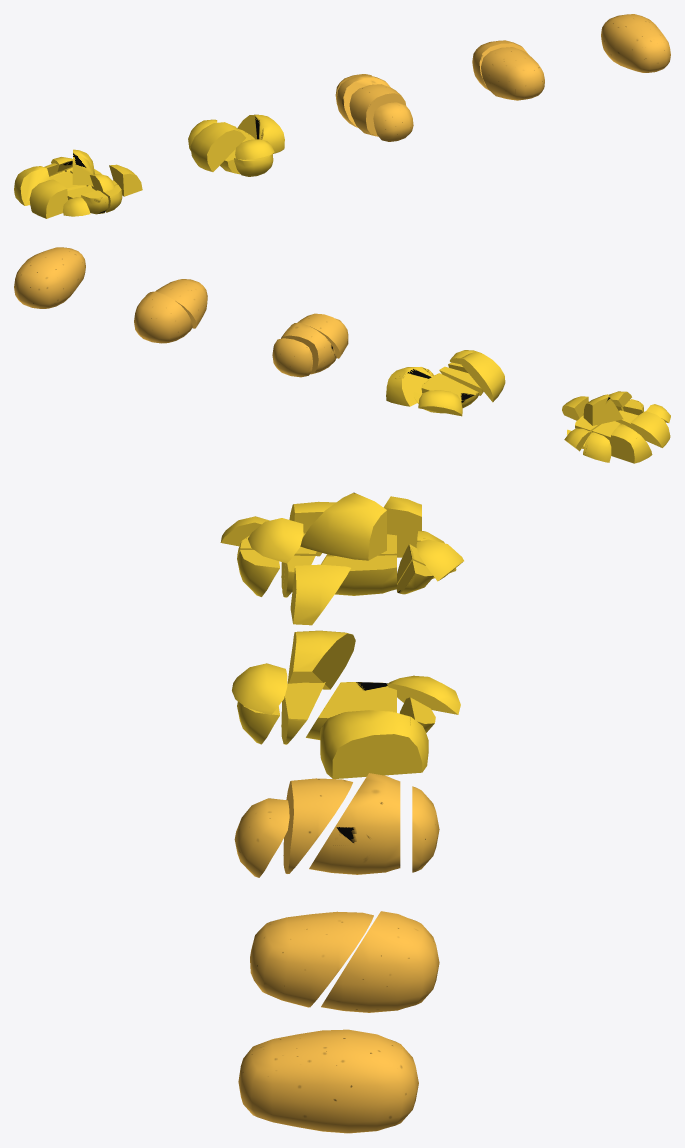
Rendered from potato.fbx.
3 renders of one model, top to bottom at view 1: azimuth 30°, elevation 25°; view 2: azimuth 150°, elevation 25°; view 3: azimuth 270°, elevation 25°, orthographic. The views are drawn at different scales.
Parts seen in each view (by area): view 1: Potato_4, Potato_3, Potato_2, Potato_1, Potato_0; view 2: Potato_4, Potato_3, Potato_1, Potato_2, Potato_0; view 3: Potato_3, Potato_4, Potato_1, Potato_0, Potato_2.
Part boxes in pixels (x1,y1,x2,y2): Potato_4: (14,149,142,218); Potato_3: (188,114,284,176); Potato_2: (335,74,413,141); Potato_1: (472,40,544,100); Potato_0: (601,14,670,72); Potato_4: (562,391,670,463); Potato_3: (386,350,505,416); Potato_1: (134,279,207,343); Potato_2: (272,313,348,377); Potato_0: (14,247,85,308); Potato_3: (232,630,460,778); Potato_4: (220,492,463,625); Potato_1: (250,911,439,1012); Potato_0: (238,1029,418,1133); Potato_2: (234,773,439,877).
Size of the model in its own units: 229 by 16.29 by 38.52.
